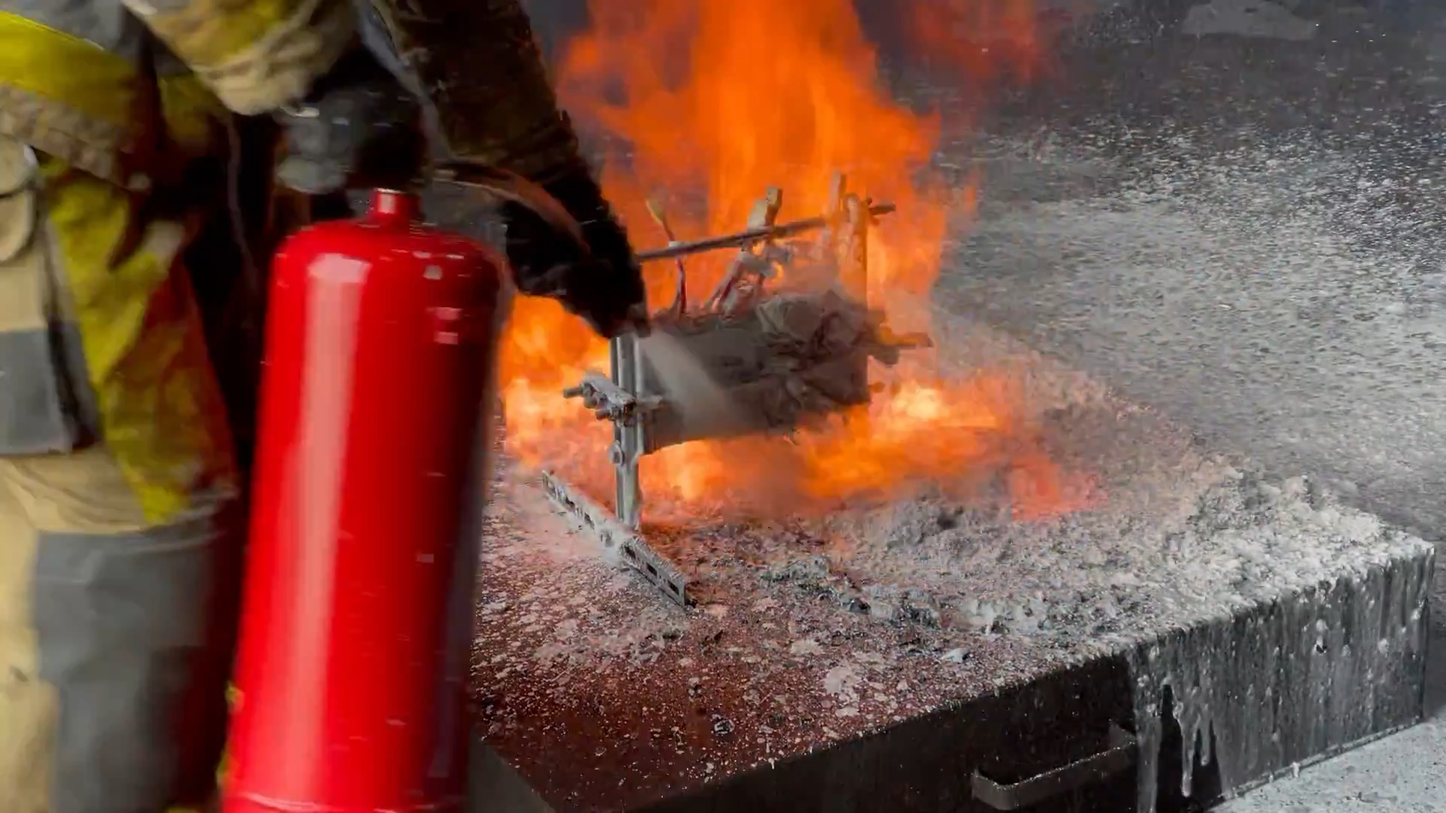fire: (482, 0, 1088, 548)
